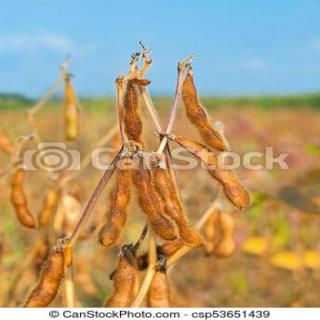soya: (171, 137, 253, 209), (149, 165, 208, 248), (131, 163, 176, 242), (181, 74, 227, 150), (97, 158, 131, 246), (21, 251, 64, 308), (104, 254, 138, 307), (123, 84, 141, 141), (145, 269, 171, 307)
